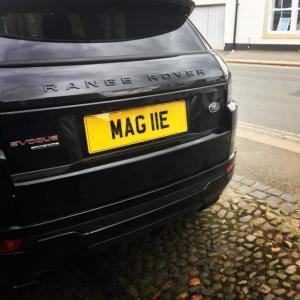Plate: (84, 99, 188, 152)
